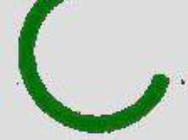ProgressBar: (1, 1, 187, 139)
